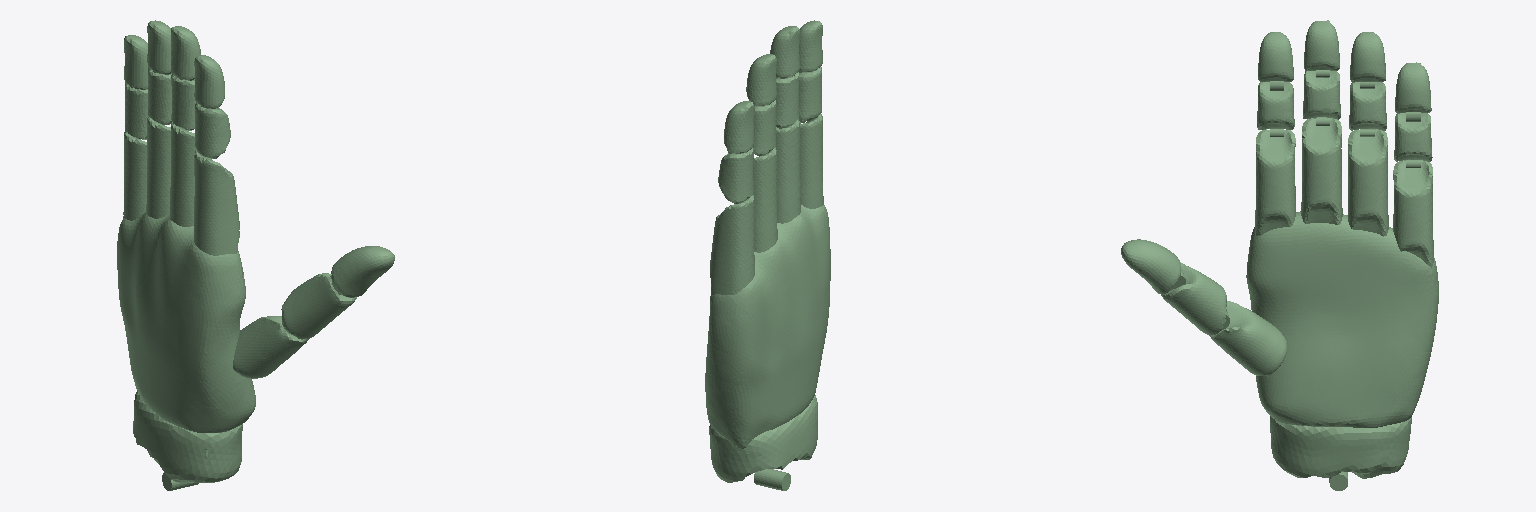
--- Facts derived from the render (not from the file) ---
3 views of the same robot in one strip: view 1: azimuth 30°, elevation 25°; view 2: azimuth 150°, elevation 25°; view 3: azimuth 270°, elevation 25° (orthographic).
Model model with 30 links and 29 joints (22 revolute, 7 fixed), rooted at base_link, posed every joint at zero.
Visible links, largest first — view 1: link_pal, link_wr_ru_fe, link_in_proxi, link_th_met, link_th_proxi, link_mi_proxi, link_ri_proxi, link_th_dis, link_li_proxi, link_in_mid, link_in_dis, link_mi_dis (+5 smaller); view 2: link_pal, link_wr_ru_fe, link_li_proxi, link_ri_proxi, link_mi_proxi, link_in_proxi, link_li_mid, link_li_dis, link_ri_dis, link_mi_dis, link_in_mid, link_in_dis (+3 smaller); view 3: link_pal, link_wr_ru_fe, link_mi_proxi, link_ri_proxi, link_in_proxi, link_li_proxi, link_th_met, link_th_proxi, link_th_dis, link_in_mid, link_li_mid, link_mi_mid (+5 smaller).
Boxes of the visible links, <box> form: link_pal: <box>117,212,255,432</box>; link_wr_ru_fe: <box>133,391,242,486</box>; link_in_proxi: <box>194,150,239,255</box>; link_th_met: <box>233,316,308,378</box>; link_th_proxi: <box>281,273,356,339</box>; link_mi_proxi: <box>170,122,195,226</box>; link_ri_proxi: <box>146,116,170,218</box>; link_th_dis: <box>331,246,394,297</box>; link_li_proxi: <box>123,131,146,220</box>; link_in_mid: <box>195,103,230,158</box>; link_in_dis: <box>194,55,224,108</box>; link_mi_dis: <box>171,26,200,80</box>; link_pal: <box>705,205,830,448</box>; link_wr_ru_fe: <box>709,395,817,487</box>; link_li_proxi: <box>710,195,754,294</box>; link_ri_proxi: <box>736,147,777,252</box>; link_mi_proxi: <box>776,119,800,223</box>; link_in_proxi: <box>800,114,823,208</box>; link_li_mid: <box>718,148,753,202</box>; link_li_dis: <box>724,101,754,153</box>; link_ri_dis: <box>746,54,776,105</box>; link_mi_dis: <box>770,26,799,78</box>; link_in_mid: <box>799,67,821,122</box>; link_in_dis: <box>799,20,822,72</box>; link_pal: <box>1246,211,1438,427</box>; link_wr_ru_fe: <box>1270,416,1411,487</box>; link_mi_proxi: <box>1301,117,1342,224</box>; link_ri_proxi: <box>1348,129,1388,236</box>; link_in_proxi: <box>1255,129,1295,235</box>; link_li_proxi: <box>1393,160,1433,267</box>; link_th_met: <box>1209,301,1286,375</box>; link_th_proxi: <box>1161,262,1226,334</box>; link_th_dis: <box>1121,239,1181,294</box>; link_in_mid: <box>1257,81,1294,136</box>; link_li_mid: <box>1394,112,1432,167</box>; link_mi_mid: <box>1303,70,1340,119</box>.
Size in the robot's own frame: 0.0665 by 0.1357 by 0.2155 metres.
23 mesh visuals loaded from 23 distinct referenced files (23 binary STL).

robot.urdf — model:
<?xml version="1.0" encoding="utf-8"?>
<robot
  name="model">
  <!-- Root link for world frame -->
  <link name="base_link" />
  
  <!-- Fixed joint to control position and orientation of the entire hand -->
  <joint name="base_joint" type="fixed">
    <origin xyz="0 0 0" rpy="0 3.14 3.14" />
    <parent link="base_link" />
    <child link="link_fa_wr" />
  </joint>
  
  <link
    name="link_fa_wr">
    <inertial>
      <origin
        xyz="0.000324746429920197 0 -1.10555648991095E-06"
        rpy="0 0 0" />
      <mass
        value="0.000475220797951147" />
      <inertia
        ixx="5.16000145637308E-09"
        ixy="7.17364114430583E-26"
        ixz="-2.01948391736579E-25"
        iyy="1.02048762834099E-08"
        iyz="2.3912137147683E-25"
        izz="1.02048762834099E-08" />
    </inertial>
    <visual>
      <origin
        xyz="0 0 0"
        rpy="0 0 0" />
      <geometry>
        <mesh
          filename="meshes/base.STL" />
      </geometry>
      <material
        name="">
        <color
          rgba="0.56078431372549 0.686274509803922 0.56078431372549 1" />
      </material>
    </visual>
    <collision>
      <origin
        xyz="0 0 0"
        rpy="0 0 0" />
      <geometry>
        <mesh
          filename="meshes/base.STL" />
      </geometry>
    </collision>
  </link>
  <link
    name="link_wr_ru_fe">
    <inertial>
      <origin
        xyz="0.0212310381632863 7.51566579490883E-05 0.0040838251495733"
        rpy="0 0 0" />
      <mass
        value="0.0457638760764503" />
      <inertia
        ixx="1.40895830109659E-05"
        ixy="2.99326495034204E-07"
        ixz="7.24188831019438E-08"
        iyy="5.86781226697665E-06"
        iyz="3.54525652308577E-07"
        izz="1.2793536398368E-05" />
    </inertial>
    <visual>
      <origin
        xyz="0 0 0"
        rpy="0 0 0" />
      <geometry>
        <mesh
          filename="meshes/link_wr_ru_fe.STL" />
      </geometry>
      <material
        name="">
        <color
          rgba="0.56078431372549 0.686274509803922 0.56078431372549 1" />
      </material>
    </visual>
    <collision>
      <origin
        xyz="0 0 0"
        rpy="0 0 0" />
      <geometry>
        <mesh
          filename="meshes/link_wr_ru_fe.STL" />
      </geometry>
    </collision>
  </link>
  <joint
    name="joint_wr_ru"
    type="revolute">
    <origin
      xyz="0 0 0"
      rpy="0 1.5574 0" />
    <parent
      link="link_fa_wr" />
    <child
      link="link_wr_ru_fe" />
    <axis
      xyz="-0.013389 0 -0.99991" />
    <limit
      lower="-0.79"
      upper="0.79"
      effort="10000000"
      velocity="10000000" />
  </joint>
  <link
    name="link_pal">
    <inertial>
      <origin
        xyz="0.0480047374401089 0.00191196726870692 0.000306371723757528"
        rpy="0 0 0" />
      <mass
        value="0.176471632778228" />
      <inertia
        ixx="8.03910336534579E-05"
        ixy="7.14420386310271E-06"
        ixz="5.35290914732344E-06"
        iyy="0.000178431765583813"
        iyz="1.71119343688694E-07"
        izz="0.000121298739374488" />
    </inertial>
    <visual>
      <origin
        xyz="0 0 0"
        rpy="0 0 0" />
      <geometry>
        <mesh
          filename="meshes/link_pal.STL" />
      </geometry>
      <material
        name="">
        <color
          rgba="0.56078431372549 0.686274509803922 0.56078431372549 1" />
      </material>
    </visual>
    <collision>
      <origin
        xyz="0 0 0"
        rpy="0 0 0" />
      <geometry>
        <mesh
          filename="meshes/link_pal.STL" />
      </geometry>
    </collision>
  </link>
  <joint
    name="joint_wr_fe"
    type="revolute">
    <origin
      xyz="0.024254 0 0"
      rpy="1.5708 0.01339 0" />
    <parent
      link="link_wr_ru_fe" />
    <child
      link="link_pal" />
    <axis
      xyz="0 0 1" />
    <limit
      lower="-1.22"
      upper="1.22"
      effort="10000000"
      velocity="10000000" />
  </joint>
  <link
    name="link_th_cmc_aa_fe">
    <inertial>
      <origin
        xyz="0.00759598174303533 6.5531511661554E-08 0.000219588437859297"
        rpy="0 0 0" />
      <mass
        value="0.000794135858016503" />
      <inertia
        ixx="1.16742815564941E-08"
        ixy="1.25972987186092E-13"
        ixz="-1.18726257450931E-10"
        iyy="1.13396194800223E-08"
        iyz="-1.41000765019819E-13"
        izz="1.03344655569774E-08" />
    </inertial>
    <visual>
      <origin
        xyz="0 0 0"
        rpy="0 0 0" />
      <geometry>
        <mesh
          filename="meshes/link_th_cmc_aa_fe.STL" />
      </geometry>
      <material
        name="">
        <color
          rgba="0.56078431372549 0.686274509803922 0.56078431372549 1" />
      </material>
    </visual>
    <!-- <collision>
      <origin
        xyz="0 0 0"
        rpy="0 0 0" />
      <geometry>
        <mesh
          filename="meshes/link_th_cmc_aa_fe.STL" />
      </geometry>
    </collision> -->
  </link>
  <joint
    name="joint_th_cmc_aa"
    type="revolute">
    <origin
      xyz="0.024935 0.0076282 -0.020922"
      rpy="0.26716 0.56259 0.42151" />
    <parent
      link="link_pal" />
    <child
      link="link_th_cmc_aa_fe" />
    <axis
      xyz="0.087529 0 0.99616" />
    <limit
      lower="-0.61"
      upper="0.61"
      effort="10000000"
      velocity="10000000" />
  </joint>
  <link
    name="link_th_met">
    <inertial>
      <origin
        xyz="0.0221423983653242 0.000765135930737681 -1.6187336896456E-06"
        rpy="0 0 0" />
      <mass
        value="0.011751358796569" />
      <inertia
        ixx="6.80837528236317E-07"
        ixy="9.30414322708514E-08"
        ixz="9.26446341297905E-10"
        iyy="1.23701679199365E-06"
        iyz="6.88087490852798E-10"
        izz="1.13742794518179E-06" />
    </inertial>
    <visual>
      <origin
        xyz="0 0 0"
        rpy="0 0 0" />
      <geometry>
        <mesh
          filename="meshes/link_th_met.STL" />
      </geometry>
      <material
        name="">
        <color
          rgba="0.56078431372549 0.686274509803922 0.56078431372549 1" />
      </material>
    </visual>
    <!-- <collision>
      <origin
        xyz="0 0 0"
        rpy="0 0 0" />
      <geometry>
        <mesh
          filename="meshes/link_th_met.STL" />
      </geometry>
    </collision> -->
  </link>
  <joint
    name="joint_th_cmc_fe"
    type="revolute">
    <origin
      xyz="0.010097 0 0"
      rpy="1.5708 0.087903 0" />
    <parent
      link="link_th_cmc_aa_fe" />
    <child
      link="link_th_met" />
    <axis
      xyz="0 0 1" />
    <limit
      lower="-0.52"
      upper="1.57"
      effort="10000000"
      velocity="10000000" />
  </joint>
  <link
    name="link_th_proxi">
    <inertial>
      <origin
        xyz="0.0142132811302265 -6.08460715649795E-05 2.66137120077392E-05"
        rpy="0 0 0" />
      <mass
        value="0.00876491053267398" />
      <inertia
        ixx="4.05744976418024E-07"
        ixy="-3.43319559496087E-09"
        ixz="-3.31658808812691E-09"
        iyy="7.43031581371223E-07"
        iyz="1.10257892894618E-10"
        izz="7.0985386810569E-07" />
    </inertial>
    <visual>
      <origin
        xyz="0 0 0"
        rpy="0 0 0" />
      <geometry>
        <mesh
          filename="meshes/link_th_proxi.STL" />
      </geometry>
      <material
        name="">
        <color
          rgba="0.56078431372549 0.686274509803922 0.56078431372549 1" />
      </material>
    </visual>
    <collision>
      <origin
        xyz="0 0 0"
        rpy="0 0 0" />
      <geometry>
        <mesh
          filename="meshes/link_th_proxi.STL" />
      </geometry>
    </collision>
  </link>
  <joint
    name="joint_th_mcp_fe"
    type="revolute">
    <origin
      xyz="0.043352 0 0"
      rpy="0 0.00012094 0.00083492" />
    <parent
      link="link_th_met" />
    <child
      link="link_th_proxi" />
    <axis
      xyz="0 0 1" />
    <limit
      lower="0"
      upper="1.92"
      effort="10000000"
      velocity="10000000" />
  </joint>
  <link
    name="link_th_dis">
    <inertial>
      <origin
        xyz="0.0134985574541959 -0.00056831895766396 6.67522767283657E-07"
        rpy="0 0 0" />
      <mass
        value="0.00524722111604576" />
      <inertia
        ixx="1.75494920393013E-07"
        ixy="1.27998898672585E-08"
        ixz="4.84823289481904E-10"
        iyy="3.41868084616086E-07"
        iyz="-6.39146279116041E-11"
        izz="3.15123645628935E-07" />
    </inertial>
    <visual>
      <origin
        xyz="0 0 0"
        rpy="0 0 0" />
      <geometry>
        <mesh
          filename="meshes/link_th_dis.STL" />
      </geometry>
      <material
        name="">
        <color
          rgba="0.56078431372549 0.686274509803922 0.56078431372549 1" />
      </material>
    </visual>
    <collision>
      <origin
        xyz="0 0 0"
        rpy="0 0 0" />
      <geometry>
        <mesh
          filename="meshes/link_th_dis.STL" />
      </geometry>
    </collision>
  </link>
  <joint
    name="joint_th_dip_fe"
    type="revolute">
    <origin
      xyz="0.03018 0 0"
      rpy="0 0 0" />
    <parent
      link="link_th_proxi" />
    <child
      link="link_th_dis" />
    <axis
      xyz="0 0 1" />
    <limit
      lower="0"
      upper="1.22"
      effort="10000000"
      velocity="10000000" />
  </joint>
  <link
    name="link_in_mcp_aa_fe">
    <inertial>
      <origin
        xyz="0.0038332964657648 0.00081477055220279 0.000216643988971948"
        rpy="0 0 0" />
      <mass
        value="0.000203032702465577" />
      <inertia
        ixx="1.37717917464342E-09"
        ixy="1.91733757835576E-27"
        ixz="8.05681642438962E-11"
        iyy="1.12269738985072E-09"
        iyz="-1.51142918295553E-26"
        izz="7.52284259783893E-10" />
    </inertial>
    <visual>
      <origin
        xyz="0 0 0"
        rpy="0 0 0" />
      <geometry>
        <mesh
          filename="meshes/link_in_mcp_aa_fe.STL" />
      </geometry>
      <material
        name="">
        <color
          rgba="1 1 1 1" />
      </material>
    </visual>
    <!-- <collision>
      <origin
        xyz="0 0 0"
        rpy="0 0 0" />
      <geometry>
        <mesh
          filename="meshes/link_in_mcp_aa_fe.STL" />
      </geometry>
    </collision> -->
  </link>
  <joint
    name="joint_in_mcp_aa"
    type="revolute">
    <origin
      xyz="0.0834964113235499 0 -0.0269496995934751"
      rpy="-1.5707963267949 0 -0.126181954512122" />
    <parent
      link="link_pal" />
    <child
      link="link_in_mcp_aa_fe" />
    <axis
      xyz="0.125847378535554 0 -0.992049614341807" />
    <limit
      lower="-0.61"
      upper="0.61"
      effort="10000000"
      velocity="10000000" />
  </joint>
  <link
    name="link_in_proxi">
    <inertial>
      <origin
        xyz="0.015307858987166 0.00167557349249123 5.81584543624808E-07"
        rpy="0 0 0" />
      <mass
        value="0.0108127199279429" />
      <inertia
        ixx="4.20210823063964E-07"
        ixy="6.27985018790203E-08"
        ixz="-1.81842468388369E-09"
        iyy="2.05127098089854E-06"
        iyz="6.7999348583517E-11"
        izz="2.02691327734983E-06" />
    </inertial>
    <visual>
      <origin
        xyz="0 0 0"
        rpy="0 0 0" />
      <geometry>
        <mesh
          filename="meshes/link_in_proxi.STL" />
      </geometry>
      <material
        name="">
        <color
          rgba="0.56078431372549 0.686274509803922 0.56078431372549 1" />
      </material>
    </visual>
    <!-- <collision>
      <origin
        xyz="0 0 0"
        rpy="0 0 0" />
      <geometry>
        <mesh
          filename="meshes/link_in_proxi.STL" />
      </geometry>
    </collision> -->
  </link>
  <joint
    name="joint_in_mcp_fe"
    type="revolute">
    <origin
      xyz="0.0101390260103911 0 0"
      rpy="1.5707963267949 -0.123147508739052 0" />
    <parent
      link="link_in_mcp_aa_fe" />
    <child
      link="link_in_proxi" />
    <axis
      xyz="0 0 1" />
    <limit
      lower="-0.52"
      upper="1.57"
      effort="10000000"
      velocity="10000000" />
  </joint>
  <link
    name="link_in_mid">
    <inertial>
      <origin
        xyz="0.0118910616333379 -0.000105243742055488 2.33895239479635E-05"
        rpy="0 0 0" />
      <mass
        value="0.00326992027558638" />
      <inertia
        ixx="8.36937121230746E-08"
        ixy="-1.18384446837837E-09"
        ixz="9.87399989147624E-11"
        iyy="1.47623690903686E-07"
        iyz="-8.36964838122225E-11"
        izz="1.28371806737738E-07" />
    </inertial>
    <visual>
      <origin
        xyz="0 0 0"
        rpy="0 0 0" />
      <geometry>
        <mesh
          filename="meshes/link_in_mid.STL" />
      </geometry>
      <material
        name="">
        <color
          rgba="0.56078431372549 0.686274509803922 0.56078431372549 1" />
      </material>
    </visual>
    <collision>
      <origin
        xyz="0 0 0"
        rpy="0 0 0" />
      <geometry>
        <mesh
          filename="meshes/link_in_mid.STL" />
      </geometry>
    </collision>
  </link>
  <joint
    name="joint_in_pip_fe"
    type="revolute">
    <origin
      xyz="0.0432785214710056 0 0"
      rpy="0 0 0.00303444577306985" />
    <parent
      link="link_in_proxi" />
    <child
      link="link_in_mid" />
    <axis
      xyz="0 0 1" />
    <limit
      lower="0"
      upper="1.92"
      effort="10000000"
      velocity="10000000" />
  </joint>
  <link
    name="link_in_dis">
    <inertial>
      <origin
        xyz="0.00992266812111509 -0.00120698004392333 1.59982032752054E-05"
        rpy="0 0 0" />
      <mass
        value="0.00243915952021783" />
      <inertia
        ixx="4.90919548775523E-08"
        ixy="2.70752739958561E-09"
        ixz="-2.46404485736309E-10"
        iyy="1.02386565246816E-07"
        iyz="-2.89388951023087E-11"
        izz="8.81959428152798E-08" />
    </inertial>
    <visual>
      <origin
        xyz="0 0 0"
        rpy="0 0 0" />
      <geometry>
        <mesh
          filename="meshes/link_in_dis.STL" />
      </geometry>
      <material
        name="">
        <color
          rgba="0.56078431372549 0.686274509803922 0.56078431372549 1" />
      </material>
    </visual>
    <collision>
      <origin
        xyz="0 0 0"
        rpy="0 0 0" />
      <geometry>
        <mesh
          filename="meshes/link_in_dis.STL" />
      </geometry>
    </collision>
  </link>
  <joint
    name="joint_in_dip_fe"
    type="revolute">
    <origin
      xyz="0.0230308198928801 0 0"
      rpy="0 0 0" />
    <parent
      link="link_in_mid" />
    <child
      link="link_in_dis" />
    <axis
      xyz="0 0 1" />
    <limit
      lower="0"
      upper="1.22"
      effort="10000000"
      velocity="10000000" />
  </joint>
  <link
    name="link_mi_mcp_aa_fe">
    <inertial>
      <origin
        xyz="0.00851766638808349 0.000628116786254234 0.000169574938406802"
        rpy="0 0 0" />
      <mass
        value="0.000216597356545401" />
      <inertia
        ixx="1.6973809473601E-09"
        ixy="2.26415240769801E-26"
        ixz="4.67684552242593E-12"
        iyy="1.35670755156032E-09"
        iyz="-1.79107470924063E-26"
        izz="1.66110683392227E-09" />
    </inertial>
    <visual>
      <origin
        xyz="0 0 0"
        rpy="0 0 0" />
      <geometry>
        <mesh
          filename="meshes/link_mi_mcp_aa_fe.STL" />
      </geometry>
      <material
        name="">
        <color
          rgba="0.56078431372549 0.686274509803922 0.56078431372549 1" />
      </material>
    </visual>
    <!-- <collision>
      <origin
        xyz="0 0 0"
        rpy="0 0 0" />
      <geometry>
        <mesh
          filename="meshes/link_mi_mcp_aa_fe.STL" />
      </geometry>
    </collision> -->
  </link>
  <joint
    name="joint_mi_mcp_aa"
    type="revolute">
    <origin
      xyz="0.0888003637790697 0 -0.00726754020689987"
      rpy="-1.5707963267949 0 -0.126181882341159" />
    <parent
      link="link_pal" />
    <child
      link="link_mi_mcp_aa_fe" />
    <axis
      xyz="0.125847306938378 0 -0.992049623424332" />
    <limit
      lower="-0.61"
      upper="0.61"
      effort="10000000"
      velocity="10000000" />
  </joint>
  <link
    name="link_mi_proxi">
    <inertial>
      <origin
        xyz="0.0153438843962954 0.00165574519898377 2.33516744875875E-07"
        rpy="0 0 0" />
      <mass
        value="0.0110279303345933" />
      <inertia
        ixx="4.28052078863054E-07"
        ixy="6.40644263659706E-08"
        ixz="-1.40220315896096E-09"
        iyy="2.08022617440212E-06"
        iyz="1.14974764512624E-10"
        izz="2.05487749198309E-06" />
    </inertial>
    <visual>
      <origin
        xyz="0 0 0"
        rpy="0 0 0" />
      <geometry>
        <mesh
          filename="meshes/link_mi_proxi.STL" />
      </geometry>
      <material
        name="">
        <color
          rgba="0.56078431372549 0.686274509803922 0.56078431372549 1" />
      </material>
    </visual>
    <!-- <collision>
      <origin
        xyz="0 0 0"
        rpy="0 0 0" />
      <geometry>
        <mesh
          filename="meshes/link_mi_proxi.STL" />
      </geometry>
    </collision> -->
  </link>
  <joint
    name="joint_mi_mcp_fe"
    type="revolute">
    <origin
      xyz="0.0101390259175651 0 0"
      rpy="1.5707963267949 -0.123147440353423 0" />
    <parent
      link="link_mi_mcp_aa_fe" />
    <child
      link="link_mi_proxi" />
    <axis
      xyz="0 0 1" />
    <limit
      lower="-0.52"
      upper="1.57"
      effort="10000000"
      velocity="10000000" />
  </joint>
  <link
    name="link_mi_mid">
    <inertial>
      <origin
        xyz="0.0118776399954317 -0.000103252085617428 9.45202144666868E-06"
        rpy="0 0 0" />
      <mass
        value="0.00325746615210496" />
      <inertia
        ixx="8.74247842157914E-08"
        ixy="-1.0214364695637E-09"
        ixz="2.16144783012787E-10"
        iyy="1.54290401020656E-07"
        iyz="2.42477530674741E-11"
        izz="1.33716606368445E-07" />
    </inertial>
    <visual>
      <origin
        xyz="0 0 0"
        rpy="0 0 0" />
      <geometry>
        <mesh
          filename="meshes/link_mi_mid.STL" />
      </geometry>
      <material
        name="">
        <color
          rgba="0.56078431372549 0.686274509803922 0.56078431372549 1" />
      </material>
    </visual>
    <collision>
      <origin
        xyz="0 0 0"
        rpy="0 0 0" />
      <geometry>
        <mesh
          filename="meshes/link_mi_mid.STL" />
      </geometry>
    </collision>
  </link>
  <joint
    name="joint_mi_pip_fe"
    type="revolute">
    <origin
      xyz="0.0432785450740567 0 0"
      rpy="0 0 0.00303444198773641" />
    <parent
      link="link_mi_proxi" />
    <child
      link="link_mi_mid" />
    <axis
      xyz="0 0 1" />
    <limit
      lower="0"
      upper="1.92"
      effort="10000000"
      velocity="10000000" />
  </joint>
  <link
    name="link_mi_dis">
    <inertial>
      <origin
        xyz="0.0101715631260009 -0.00124158392664979 -2.28677802265737E-06"
        rpy="0 0 0" />
      <mass
        value="0.00243232143437749" />
      <inertia
        ixx="5.08259706430469E-08"
        ixy="2.91641626484151E-09"
        ixz="-2.28814868976143E-10"
        iyy="1.06244105392967E-07"
        iyz="1.79675025833315E-11"
        izz="9.14791025335818E-08" />
    </inertial>
    <visual>
      <origin
        xyz="0 0 0"
        rpy="0 0 0" />
      <geometry>
        <mesh
          filename="meshes/link_mi_dis.STL" />
      </geometry>
      <material
        name="">
        <color
          rgba="0.56078431372549 0.686274509803922 0.56078431372549 1" />
      </material>
    </visual>
    <collision>
      <origin
        xyz="0 0 0"
        rpy="0 0 0" />
      <geometry>
        <mesh
          filename="meshes/link_mi_dis.STL" />
      </geometry>
    </collision>
  </link>
  <joint
    name="joint_mi_dip_fe"
    type="revolute">
    <origin
      xyz="0.0230307726860099 0 0"
      rpy="0 0 0" />
    <parent
      link="link_mi_mid" />
    <child
      link="link_mi_dis" />
    <axis
      xyz="0 0 1" />
    <limit
      lower="0"
      upper="1.22"
      effort="10000000"
      velocity="10000000" />
  </joint>
  <link
    name="link_ri_mcp_aa_fe">
    <inertial>
      <origin
        xyz="0.00734309850464121 -0.000368166025493714 9.17618036167522E-05"
        rpy="0 0 0" />
      <mass
        value="0.000152126472176088" />
      <inertia
        ixx="1.23039522202111E-09"
        ixy="-2.72433788559866E-26"
        ixz="2.3148206996932E-11"
        iyy="6.37404027469946E-10"
        iyz="-9.26758192119242E-27"
        izz="1.05085577141794E-09" />
    </inertial>
    <visual>
      <origin
        xyz="0 0 0"
        rpy="0 0 0" />
      <geometry>
        <mesh
          filename="meshes/link_ri_mcp_aa_fe.STL" />
      </geometry>
      <material
        name="">
        <color
          rgba="0.56078431372549 0.686274509803922 0.56078431372549 1" />
      </material>
    </visual>
    <!-- <collision>
      <origin
        xyz="0 0 0"
        rpy="0 0 0" />
      <geometry>
        <mesh
          filename="meshes/link_ri_mcp_aa_fe.STL" />
      </geometry>
    </collision> -->
  </link>
  <joint
    name="joint_ri_mcp_aa"
    type="revolute">
    <origin
      xyz="0.0834716513156899 0 0.0124124041444156"
      rpy="-1.5707963267949 0 -0.126182229440073" />
    <parent
      link="link_pal" />
    <child
      link="link_ri_mcp_aa_fe" />
    <axis
      xyz="0.125847651277717 0 -0.992049579742808" />
    <limit
      lower="-0.61"
      upper="0.61"
      effort="10000000"
      velocity="10000000" />
  </joint>
  <link
    name="link_ri_proxi">
    <inertial>
      <origin
        xyz="0.0153449928776936 0.00166194881441958 8.73642694208115E-06"
        rpy="0 0 0" />
      <mass
        value="0.010975368134532" />
      <inertia
        ixx="4.27704577188604E-07"
        ixy="6.38807311731797E-08"
        ixz="-1.15366545678476E-09"
        iyy="2.07833687244316E-06"
        iyz="1.36933465768603E-10"
        izz="2.05324845686658E-06" />
    </inertial>
    <visual>
      <origin
        xyz="0 0 0"
        rpy="0 0 0" />
      <geometry>
        <mesh
          filename="meshes/link_ri_proxi.STL" />
      </geometry>
      <material
        name="">
        <color
          rgba="0.56078431372549 0.686274509803922 0.56078431372549 1" />
      </material>
    </visual>
    <!-- <collision>
      <origin
        xyz="0 0 0"
        rpy="0 0 0" />
      <geometry>
        <mesh
          filename="meshes/link_ri_proxi.STL" />
      </geometry>
    </collision> -->
  </link>
  <joint
    name="joint_ri_mcp_fe"
    type="revolute">
    <origin
      xyz="0.0101390025714014 0 0"
      rpy="1.5707963267949 -0.123147781061143 0" />
    <parent
      link="link_ri_mcp_aa_fe" />
    <child
      link="link_ri_proxi" />
    <axis
      xyz="0 0 1" />
    <limit
      lower="-0.52"
      upper="1.57"
      effort="10000000"
      velocity="10000000" />
  </joint>
  <link
    name="link_ri_mid">
    <inertial>
      <origin
        xyz="0.0119229154222737 -0.000108335620005826 -8.55422150349353E-06"
        rpy="0 0 0" />
      <mass
        value="0.00321953509516593" />
      <inertia
        ixx="8.6030080248456E-08"
        ixy="-1.18408342083149E-09"
        ixz="2.67693735970143E-10"
        iyy="1.52182730307067E-07"
        iyz="-1.2678332274653E-11"
        izz="1.31945339119037E-07" />
    </inertial>
    <visual>
      <origin
        xyz="0 0 0"
        rpy="0 0 0" />
      <geometry>
        <mesh
          filename="meshes/link_ri_mid.STL" />
      </geometry>
      <material
        name="">
        <color
          rgba="0.56078431372549 0.686274509803922 0.56078431372549 1" />
      </material>
    </visual>
    <collision>
      <origin
        xyz="0 0 0"
        rpy="0 0 0" />
      <geometry>
        <mesh
          filename="meshes/link_ri_mid.STL" />
      </geometry>
    </collision>
  </link>
  <joint
    name="joint_ri_pip_fe"
    type="revolute">
    <origin
      xyz="0.0432785450748963 0 0"
      rpy="0 0 0.00303444837892923" />
    <parent
      link="link_ri_proxi" />
    <child
      link="link_ri_mid" />
    <axis
      xyz="0 0 1" />
    <limit
      lower="0"
      upper="1.92"
      effort="10000000"
      velocity="10000000" />
  </joint>
  <link
    name="link_ri_dis">
    <inertial>
      <origin
        xyz="0.010188325609183 -0.00124031675593784 -1.81018235522953E-06"
        rpy="0 0 0" />
      <mass
        value="0.00240308603914779" />
      <inertia
        ixx="4.97887122396101E-08"
        ixy="2.82821789003568E-09"
        ixz="-2.0541464512431E-10"
        iyy="1.04081569230065E-07"
        iyz="-2.00179891111411E-11"
        izz="8.96621467202954E-08" />
    </inertial>
    <visual>
      <origin
        xyz="0 0 0"
        rpy="0 0 0" />
      <geometry>
        <mesh
          filename="meshes/link_ri_dis.STL" />
      </geometry>
      <material
        name="">
        <color
          rgba="0.56078431372549 0.686274509803922 0.56078431372549 1" />
      </material>
    </visual>
    <collision>
      <origin
        xyz="0 0 0"
        rpy="0 0 0" />
      <geometry>
        <mesh
          filename="meshes/link_ri_dis.STL" />
      </geometry>
    </collision>
  </link>
  <joint
    name="joint_ri_dip_fe"
    type="revolute">
    <origin
      xyz="0.0230307490825701 0 0"
      rpy="0 0 0" />
    <parent
      link="link_ri_mid" />
    <child
      link="link_ri_dis" />
    <axis
      xyz="0 0 1" />
    <limit
      lower="0"
      upper="1.22"
      effort="10000000"
      velocity="10000000" />
  </joint>
  <link
    name="link_li_mcp_aa_fe">
    <inertial>
      <origin
        xyz="0.00639411129678691 0.000307995467561252 0.000618755479171118"
        rpy="0 0 0" />
      <mass
        value="6.21820233451982E-05" />
      <inertia
        ixx="2.35857436771572E-10"
        ixy="-5.11825495056268E-27"
        ixz="5.55718501016805E-12"
        iyy="1.1743577428348E-10"
        iyz="-6.49283464542042E-28"
        izz="1.92755510744644E-10" />
    </inertial>
    <visual>
      <origin
        xyz="0 0 0"
        rpy="0 0 0" />
      <geometry>
        <mesh
          filename="meshes/link_li_mcp_aa_fe.STL" />
      </geometry>
      <material
        name="">
        <color
          rgba="0.56078431372549 0.686274509803922 0.56078431372549 1" />
      </material>
    </visual>
    <!-- <collision>
      <origin
        xyz="0 0 0"
        rpy="0 0 0" />
      <geometry>
        <mesh
          filename="meshes/link_li_mcp_aa_fe.STL" />
      </geometry>
    </collision> -->
  </link>
  <joint
    name="joint_li_mcp_aa"
    type="revolute">
    <origin
      xyz="0.0689139232635501 0 0.0316912065690849"
      rpy="-1.5707963267949 0 -0.126182427910659" />
    <parent
      link="link_pal" />
    <child
      link="link_li_mcp_aa_fe" />
    <axis
      xyz="0.125847848170376 0 -0.992049554765731" />
    <limit
      lower="-0.61"
      upper="0.61"
      effort="10000000"
      velocity="10000000" />
  </joint>
  <link
    name="link_li_proxi">
    <inertial>
      <origin
        xyz="0.0154871416021258 0.00166449862942641 4.65756655756988E-06"
        rpy="0 0 0" />
      <mass
        value="0.0109647818600318" />
      <inertia
        ixx="4.27613271854714E-07"
        ixy="6.40246113140652E-08"
        ixz="-1.59729325632517E-09"
        iyy="2.07878686131105E-06"
        iyz="1.90223574738362E-10"
        izz="2.05391723928054E-06" />
    </inertial>
    <visual>
      <origin
        xyz="0 0 0"
        rpy="0 0 0" />
      <geometry>
        <mesh
          filename="meshes/link_li_proxi.STL" />
      </geometry>
      <material
        name="">
        <color
          rgba="0.56078431372549 0.686274509803922 0.56078431372549 1" />
      </material>
    </visual>
    <!-- <collision>
      <origin
        xyz="0 0 0"
        rpy="0 0 0" />
      <geometry>
        <mesh
          filename="meshes/link_li_proxi.STL" />
      </geometry>
    </collision> -->
  </link>
  <joint
    name="joint_li_mcp_fe"
    type="revolute">
    <origin
      xyz="0.0101390028266735 0 0"
      rpy="1.5707963267949 -0.123149193068389 0" />
    <parent
      link="link_li_mcp_aa_fe" />
    <child
      link="link_li_proxi" />
    <axis
      xyz="0 0 1" />
    <limit
      lower="-0.52"
      upper="1.57"
      effort="10000000"
      velocity="10000000" />
  </joint>
  <link
    name="link_li_mid">
    <inertial>
      <origin
        xyz="0.0118766412954538 -0.000103242653002728 2.88411054122362E-07"
        rpy="0 0 0" />
      <mass
        value="0.00336976692828788" />
      <inertia
        ixx="8.83639390779348E-08"
        ixy="-1.15227905649004E-09"
        ixz="2.76958166253769E-10"
        iyy="1.55486459655286E-07"
        iyz="-8.03974663233475E-13"
        izz="1.34850884530357E-07" />
    </inertial>
    <visual>
      <origin
        xyz="0 0 0"
        rpy="0 0 0" />
      <geometry>
        <mesh
          filename="meshes/link_li_mid.STL" />
      </geometry>
      <material
        name="">
        <color
          rgba="0.56078431372549 0.686274509803922 0.56078431372549 1" />
      </material>
    </visual>
    <collision>
      <origin
        xyz="0 0 0"
        rpy="0 0 0" />
      <geometry>
        <mesh
          filename="meshes/link_li_mid.STL" />
      </geometry>
    </collision>
  </link>
  <joint
    name="joint_li_pip_fe"
    type="revolute">
    <origin
      xyz="0.0432957991090817 0 0"
      rpy="0 0 0.00303323484226988" />
    <parent
      link="link_li_proxi" />
    <child
      link="link_li_mid" />
    <axis
      xyz="0 0 1" />
    <limit
      lower="0"
      upper="1.92"
      effort="10000000"
      velocity="10000000" />
  </joint>
  <link
    name="link_li_dis">
    <inertial>
      <origin
        xyz="0.0098112472156473 -0.00121353541498967 -3.34795640034857E-06"
        rpy="0 0 0" />
      <mass
        value="0.00252658837255668" />
      <inertia
        ixx="5.22555729305657E-08"
        ixy="3.02781090583265E-09"
        ixz="-2.18543943545425E-10"
        iyy="1.08964442942405E-07"
        iyz="-1.16373028043498E-11"
        izz="9.3606769382379E-08" />
    </inertial>
    <visual>
      <origin
        xyz="0 0 0"
        rpy="0 0 0" />
      <geometry>
        <mesh
          filename="meshes/link_li_dis.STL" />
      </geometry>
      <material
        name="">
        <color
          rgba="0.56078431372549 0.686274509803922 0.56078431372549 1" />
      </material>
    </visual>
    <collision>
      <origin
        xyz="0 0 0"
        rpy="0 0 0" />
      <geometry>
        <mesh
          filename="meshes/link_li_dis.STL" />
      </geometry>
    </collision>
  </link>
  <joint
    name="joint_li_dip_fe"
    type="revolute">
    <origin
      xyz="0.0231288921833099 0 0"
      rpy="0 0 0" />
    <parent
      link="link_li_mid" />
    <child
      link="link_li_dis" />
    <axis
      xyz="0 0 1" />
    <limit
      lower="0"
      upper="1.22"
      effort="10000000"
      velocity="10000000" />
  </joint>
  <!-- Tip frames at distal links and palm center -->
  <link
    name="tip_th_dis" />
  <joint
    name="tip_th_dis_joint"
    type="fixed">
    <origin
      xyz="0.011 0 0"
      rpy="0 0 0" />
    <parent
      link="link_th_dis" />
    <child
      link="tip_th_dis" />
  </joint>
  <link
    name="tip_in_dis" />
  <joint
    name="tip_in_dis_joint"
    type="fixed">
    <origin
      xyz="0.011 0 0"
      rpy="0 0 0" />
    <parent
      link="link_in_dis" />
    <child
      link="tip_in_dis" />
  </joint>
  <link
    name="tip_mi_dis" />
  <joint
    name="tip_mi_dis_joint"
    type="fixed">
    <origin
      xyz="0.011 0 0"
      rpy="0 0 0" />
    <parent
      link="link_mi_dis" />
    <child
      link="tip_mi_dis" />
  </joint>
  <link
    name="tip_ri_dis" />
  <joint
    name="tip_ri_dis_joint"
    type="fixed">
    <origin
      xyz="0.011 0 0"
      rpy="0 0 0" />
    <parent
      link="link_ri_dis" />
    <child
      link="tip_ri_dis" />
  </joint>
  <link
    name="tip_li_dis" />
  <joint
    name="tip_li_dis_joint"
    type="fixed">
    <origin
      xyz="0.011 0 0"
      rpy="0 0 0" />
    <parent
      link="link_li_dis" />
    <child
      link="tip_li_dis" />
  </joint>
  <link
    name="tip_pal_ctr" />
  <joint
    name="tip_pal_ctr_joint"
    type="fixed">
    <origin
      xyz="0.038 0 0"
      rpy="0 0 0" />
    <parent
      link="link_pal" />
    <child
      link="tip_pal_ctr" />
  </joint>
</robot>
